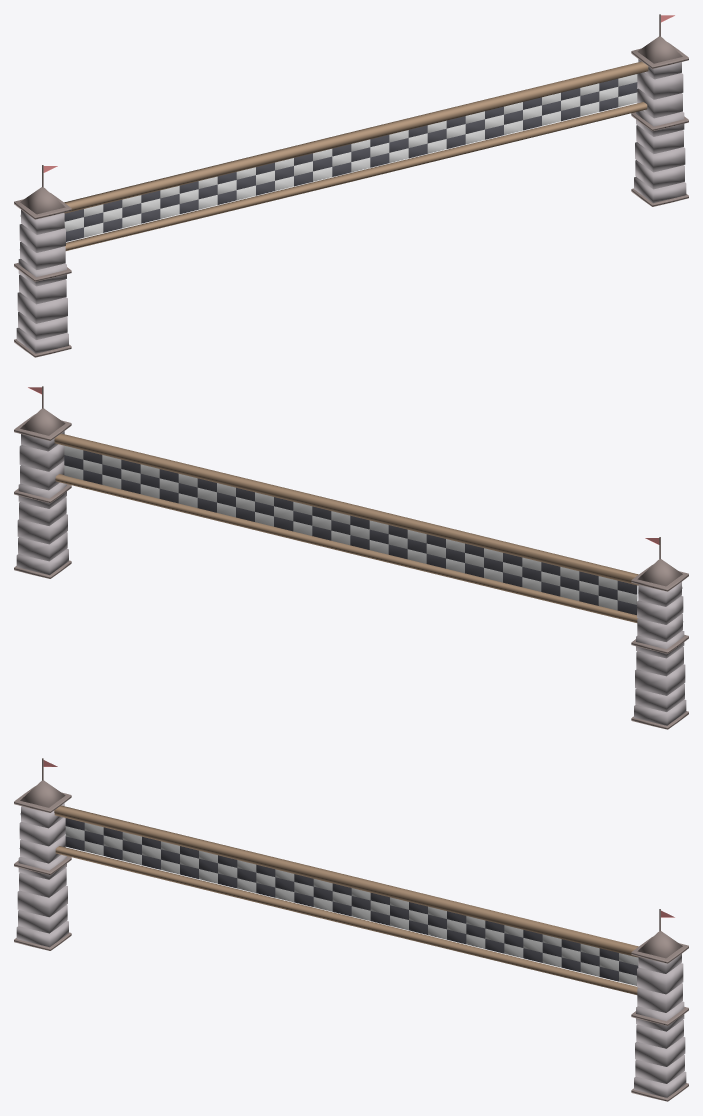
File: SkateArch.glb
3 views of the same model, one above another, from view 1: azimuth 30°, elevation 25°; view 2: azimuth 150°, elevation 25°; view 3: azimuth 330°, elevation 25° (orthographic).
Parts seen in each view (by area): view 1: Beam, Stone, Light, Dark, Trim; view 2: Stone, Beam, Dark, Light, Trim; view 3: Beam, Stone, Dark, Light, Trim.
Part boxes in pixels (<box>): Beam: <box>64,61,648,250</box>; Stone: <box>16,59,686,353</box>; Light: <box>64,74,637,237</box>; Dark: <box>64,78,637,241</box>; Trim: <box>14,14,688,357</box>; Stone: <box>16,431,686,725</box>; Beam: <box>54,433,638,622</box>; Dark: <box>64,450,637,614</box>; Light: <box>64,445,637,610</box>; Trim: <box>14,386,688,729</box>; Beam: <box>54,805,638,994</box>; Stone: <box>16,803,686,1097</box>; Dark: <box>65,818,638,981</box>; Light: <box>65,822,638,985</box>; Trim: <box>14,758,688,1101</box>.
Size of the model in its own units: 117 by 30.8 by 6.6.
